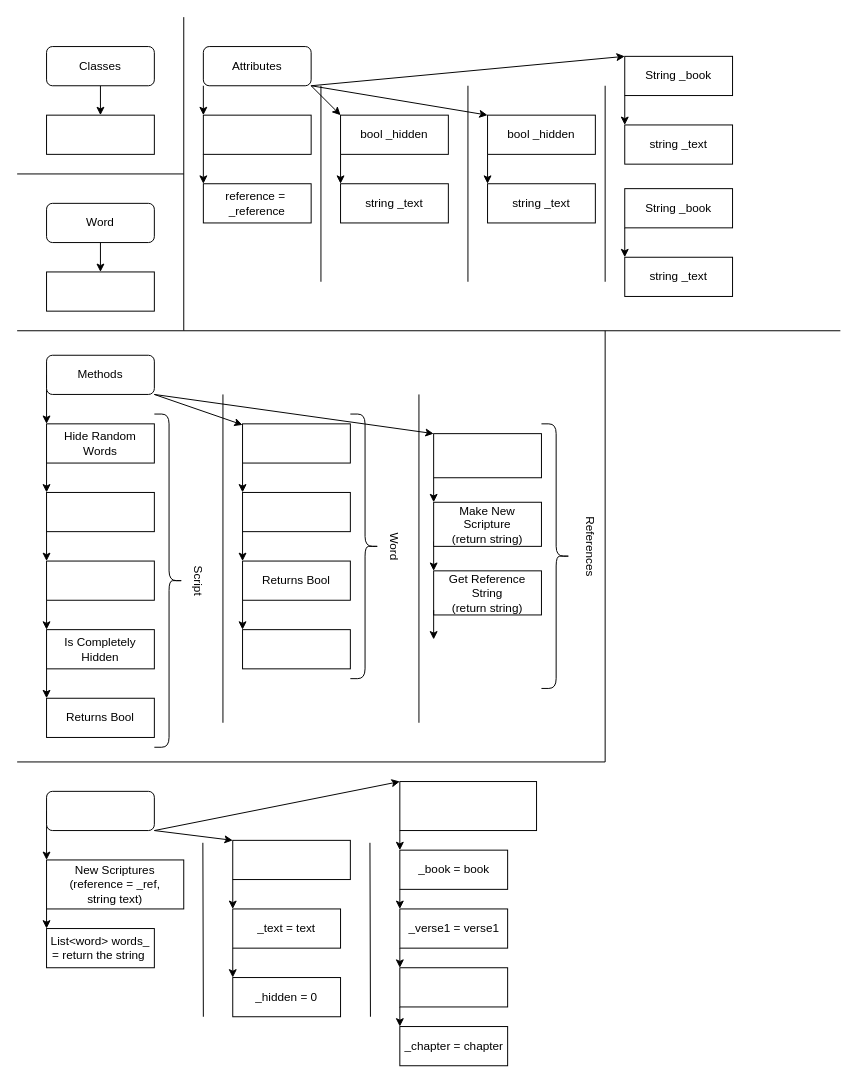
The diagram is 858 pixels wide and 1083 high, and some of its shapes have lost their labels. The shapes that lost their labels are listed below. From the top down, each one's centre as x and y in pixels, then its label:
the point at 100,134: Scripture
the point at 256,134: List<word> _words
the point at 100,291: Referall
the point at 296,443: Hide
the point at 487,455: Prick Random Scripture
the point at 100,511: Get Rendered Text
the point at 296,511: Is Hidden
the point at 100,580: Returns String
the point at 296,649: Get Word
the point at 100,810: Constructors
the point at 468,806: new reference (string book, int verse 1, int verse 2, int chapter)
the point at 291,859: new word(string text)
the point at 453,987: _verse2 = verse2
